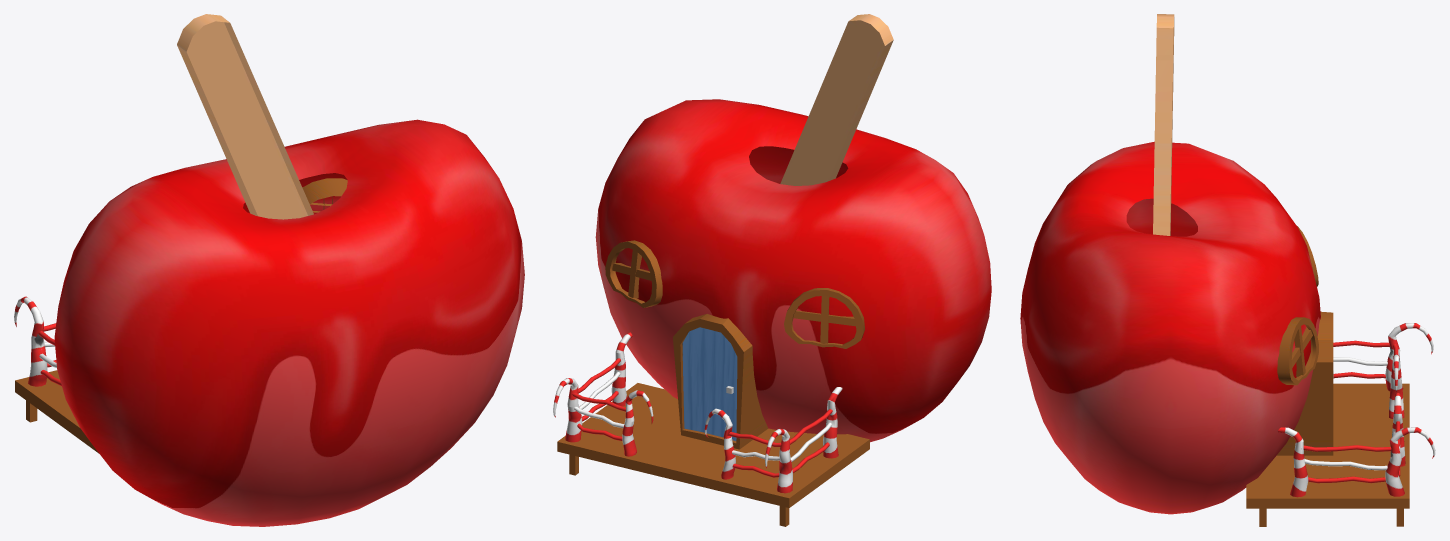
File: LowPolyHouse.fbx
The picture shows the model from 3 angles, left to right: view 1: azimuth 30°, elevation 25°; view 2: azimuth 150°, elevation 25°; view 3: azimuth 270°, elevation 25°; orthographic projection. The views are drawn at different scales.
Visible parts, largest first — view 1: pSphere4, pCube14, pCube1, pCylinder15, polySurface4; view 2: pSphere4, pCube1, pCube10, pCube14, pCylinder15, pCylinder14, polySurface4, polySurface11, polySurface8, polySurface15; view 3: pSphere4, pCube1, pCube14, pCube10, pCylinder14, polySurface4, pCylinder15, polySurface15, polySurface11.
Boxes of the visible parts, box(x1,y1,x2,y2) form: pSphere4: box(54, 119, 524, 526); pCube14: box(177, 14, 313, 219); pCube1: box(15, 370, 98, 453); pCylinder15: box(14, 296, 61, 386); polySurface4: box(302, 178, 347, 212); pSphere4: box(595, 99, 991, 442); pCube1: box(557, 383, 869, 507); pCube10: box(673, 314, 768, 449); pCube14: box(780, 14, 893, 185); pCylinder15: box(765, 387, 842, 493); pCylinder14: box(553, 332, 632, 442); polySurface4: box(605, 240, 662, 307); polySurface11: box(572, 390, 653, 456); polySurface8: box(784, 288, 864, 348); polySurface15: box(704, 408, 781, 479); pSphere4: box(1020, 141, 1320, 514); pCube1: box(1246, 383, 1409, 508); pCube14: box(1153, 14, 1174, 235); pCube10: box(1277, 311, 1333, 455); pCylinder14: box(1277, 427, 1435, 497); polySurface4: box(1277, 317, 1318, 385); pCylinder15: box(1333, 323, 1433, 391); polySurface15: box(1389, 344, 1404, 418); polySurface11: box(1390, 393, 1405, 476).
Size of the model in its own units: 157 by 170 by 151.
